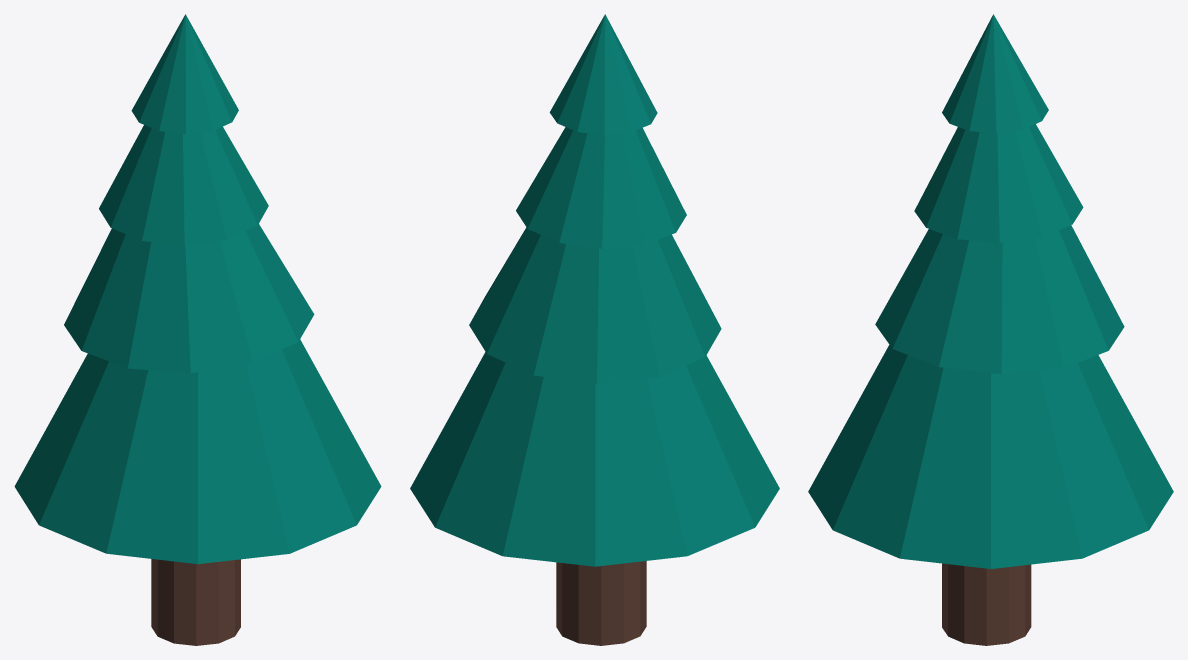
File: modelDraco.gltf
The picture shows the model from 3 angles, left to right: view 1: azimuth 30°, elevation 25°; view 2: azimuth 150°, elevation 25°; view 3: azimuth 270°, elevation 25°; orthographic projection.
Parts seen in each view (by area): view 1: node_MeshObject-402600832-PolyPaper11; view 2: node_MeshObject-402600832-PolyPaper11; view 3: node_MeshObject-402600832-PolyPaper11.
Part boxes in pixels (x1,y1,x2,y2): node_MeshObject-402600832-PolyPaper11: (14,14,381,645); node_MeshObject-402600832-PolyPaper11: (410,14,779,645); node_MeshObject-402600832-PolyPaper11: (808,14,1173,645).
Bounding box in the file's own units: 0.4102 × 0.7544 × 0.4102.
